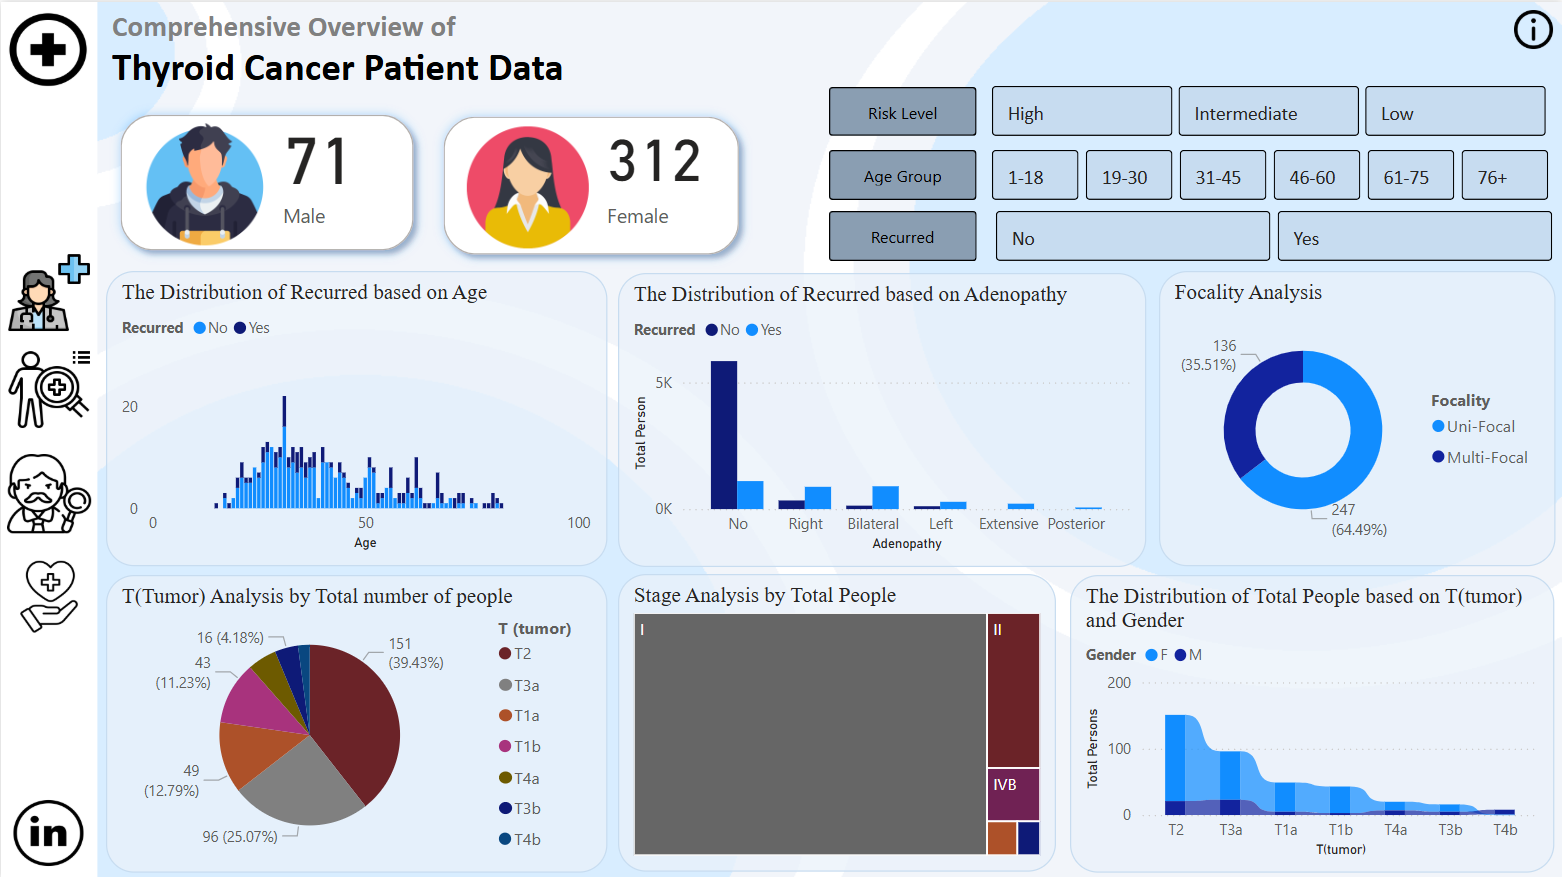

Layout of this report page (visuals, bound fields, positions):
{"tool":"powerbi","page":{"name":"Overview ","canvas":[1280,720],"ordinal":2},"visuals":[{"type":"cardVisual","fields":{"Data":["Thyroid_Diff.Count Male"]},"box":[86.5,79.2,264.6,136.5],"z":0},{"type":"cardVisual","fields":{"Data":["Thyroid_Diff.Count Female"]},"box":[351,82.3,266.7,137.5],"z":1000},{"type":"columnChart","title":"The Distribution of Recurred based on Age","fields":{"Series":["Thyroid_Diff.Recurred"],"Y":["CountNonNull(Thyroid_Diff.Recurred)"],"Category":["Thyroid_Diff.Age"]},"box":[86.5,220.8,411.5,241.7],"z":2000},{"type":"treemap","title":"Stage Analysis by Total People","fields":{"Group":["Thyroid_Diff.Stage"],"Values":["CountNonNull(Thyroid_Diff.Row Number)"]},"box":[506,469,359.4,243.8],"z":3000},{"type":"donutChart","title":"Focality Analysis","fields":{"Category":["Thyroid_Diff.Focality"],"Y":["CountNonNull(Thyroid_Diff.Row Number)"]},"box":[949,220.8,325,241.7],"z":4000},{"type":"clusteredColumnChart","title":"The Distribution of Recurred based on Adenopathy","fields":{"Category":["Thyroid_Diff.Adenopathy"],"Y":["Sum(Thyroid_Diff.Row Number)"],"Series":["Thyroid_Diff.Recurred"]},"box":[506,221.9,433.3,240.6],"z":5000},{"type":"pieChart","title":"T(Tumor) Analysis by Total number of people ","fields":{"Category":["Thyroid_Diff.T"],"Y":["CountNonNull(Thyroid_Diff.Row Number)"]},"box":[86.5,469.8,411.5,243.8],"z":6000},{"type":"ribbonChart","title":"The Distribution of Total People based on T(tumor) and Gender","fields":{"Y":["CountNonNull(Thyroid_Diff.Row Number)"],"Category":["Thyroid_Diff.T"],"Series":["Thyroid_Diff.Gender"]},"box":[876,469.8,396.9,243.8],"z":7000},{"type":"advancedSlicerVisual","fields":{"Values":["Thyroid_Diff.Risk"]},"box":[808,65.1,464.5,49.1],"z":8000},{"type":"advancedSlicerVisual","fields":{"Values":["Thyroid_Diff.Age Group"]},"box":[808,116.9,464.5,50],"z":9000},{"type":"shape","box":[678.9,69.7,120.9,40],"z":10000},{"type":"shape","box":[678.9,121.5,120.9,40.9],"z":11000},{"type":"textbox","box":[86.1,0,454.9,84.4],"z":12000},{"type":"advancedSlicerVisual","fields":{"Values":["Thyroid_Diff.Recurred"]},"box":[811.5,167.3,464.9,49.5],"z":13000},{"type":"shape","box":[678.6,171.4,120.6,41.2],"z":14000},{"type":"shape","box":[0,0,79,719.8],"z":15000},{"type":"image","box":[4.8,454.8,69.2,65.4],"z":16000},{"type":"image","box":[4.8,205.8,69.2,65.4],"z":17000},{"type":"image","box":[4.8,285.6,69.2,65.4],"z":18000},{"type":"image","box":[4.8,370.2,69.2,65.4],"z":19000},{"type":"image","box":[3.8,6.7,69.2,65.4],"z":19500},{"type":"image","box":[1240.4,6.7,31.7,31.7],"z":20000},{"type":"image","box":[4.9,649.2,68,63.9],"z":21002}]}

Visuals, with their boxes in screenshot pixels (x1, y1, x2, y2), scaled from the page's 1280x720 canvas onto the 1562x877 screenshot:
cardVisual - Thyroid_Diff.Count Male: x1=106, y1=96, x2=428, y2=263
cardVisual - Thyroid_Diff.Count Female: x1=428, y1=100, x2=754, y2=268
"The Distribution of Recurred based on Age" columnChart: x1=106, y1=269, x2=608, y2=563
"Stage Analysis by Total People" treemap: x1=617, y1=571, x2=1056, y2=868
"Focality Analysis" donutChart: x1=1158, y1=269, x2=1555, y2=563
"The Distribution of Recurred based on Adenopathy" clusteredColumnChart: x1=617, y1=270, x2=1146, y2=563
"T(Tumor) Analysis by Total number of people " pieChart: x1=106, y1=572, x2=608, y2=869
"The Distribution of Total People based on T(tumor) and Gender" ribbonChart: x1=1069, y1=572, x2=1553, y2=869
advancedSlicerVisual - Thyroid_Diff.Risk: x1=986, y1=79, x2=1553, y2=139
advancedSlicerVisual - Thyroid_Diff.Age Group: x1=986, y1=142, x2=1553, y2=203
shape: x1=828, y1=85, x2=976, y2=134
shape: x1=828, y1=148, x2=976, y2=198
textbox: x1=105, y1=0, x2=660, y2=103
advancedSlicerVisual - Thyroid_Diff.Recurred: x1=990, y1=204, x2=1558, y2=264
shape: x1=828, y1=209, x2=975, y2=259
shape: x1=0, y1=0, x2=96, y2=876
image: x1=6, y1=554, x2=90, y2=634
image: x1=6, y1=251, x2=90, y2=330
image: x1=6, y1=348, x2=90, y2=428
image: x1=6, y1=451, x2=90, y2=531
image: x1=5, y1=8, x2=89, y2=88
image: x1=1514, y1=8, x2=1552, y2=47
image: x1=6, y1=791, x2=89, y2=869
